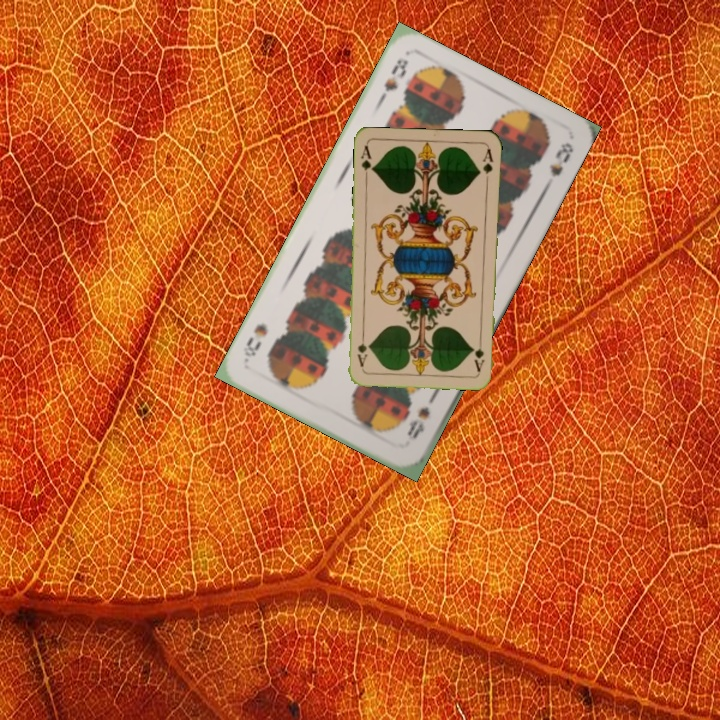GA: (356, 142, 376, 182), (472, 334, 487, 374)
S8: (374, 54, 411, 107), (403, 402, 433, 442)
